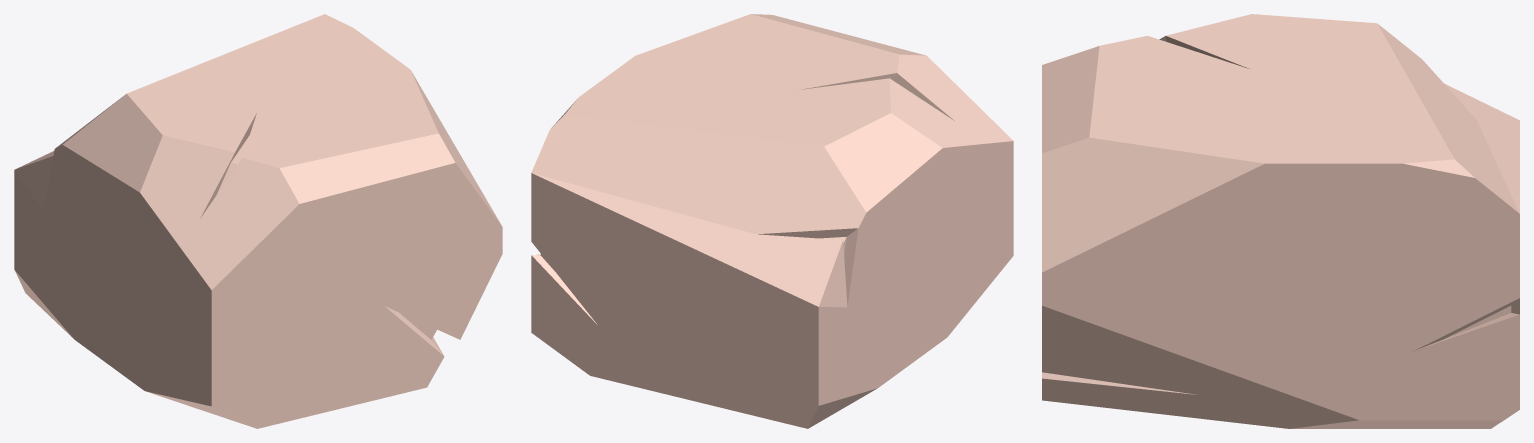
Rendered from Stone 12.fbx.
3 views of the same model, side by side, from view 1: azimuth 30°, elevation 25°; view 2: azimuth 150°, elevation 25°; view 3: azimuth 270°, elevation 25° (orthographic). The views are drawn at different scales.
Visible parts, largest first — view 1: Stone 12; view 2: Stone 12; view 3: Stone 12.
Part boxes in pixels (x1,y1,x2,y2): Stone 12: [14, 14, 502, 428]; Stone 12: [531, 14, 1013, 428]; Stone 12: [1042, 14, 1519, 428].
Size of the model in its own units: 120 by 91.73 by 141.
